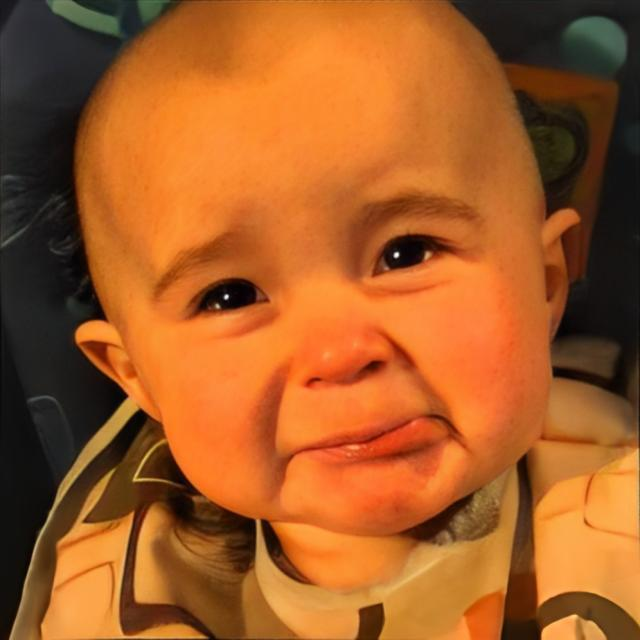sad: (72, 1, 546, 534)
